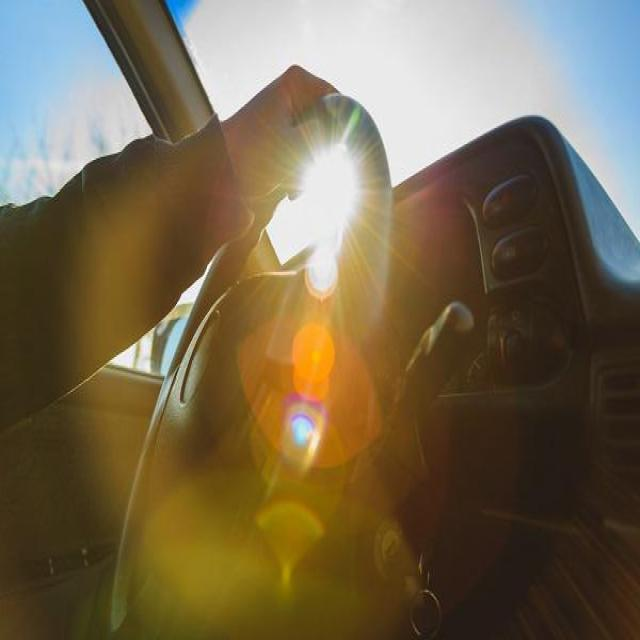other: (245, 253, 378, 552), (289, 144, 370, 241)
